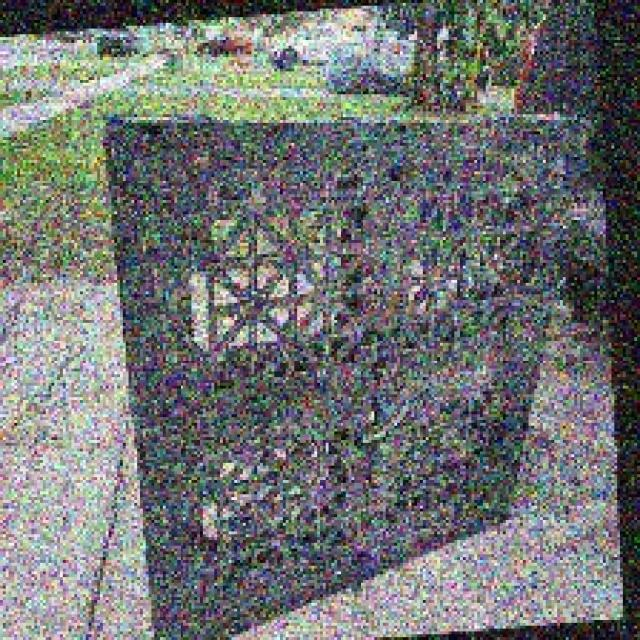igps: (96, 101, 602, 640)
